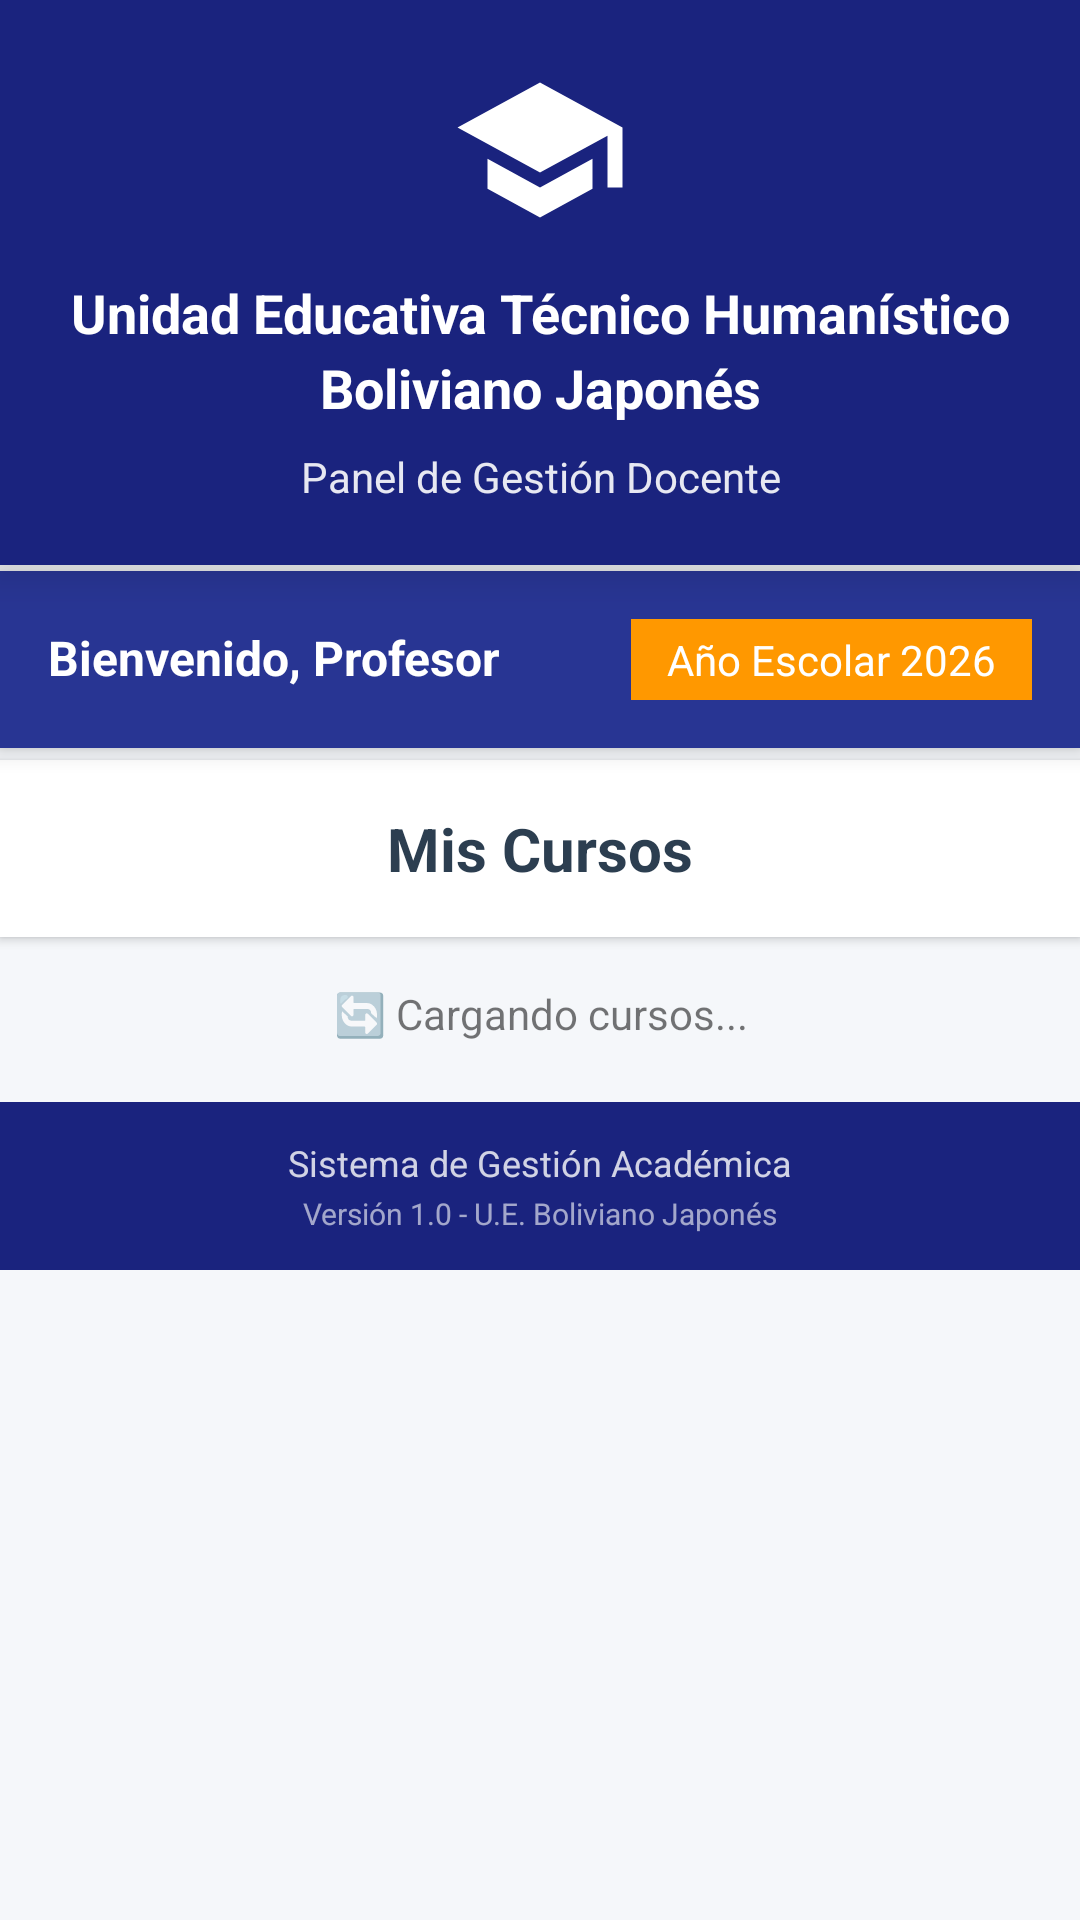

Icon click points for this 1080 × 1920 phone screenshot, format (x=x, y=y):
school: (x=540, y=150)
